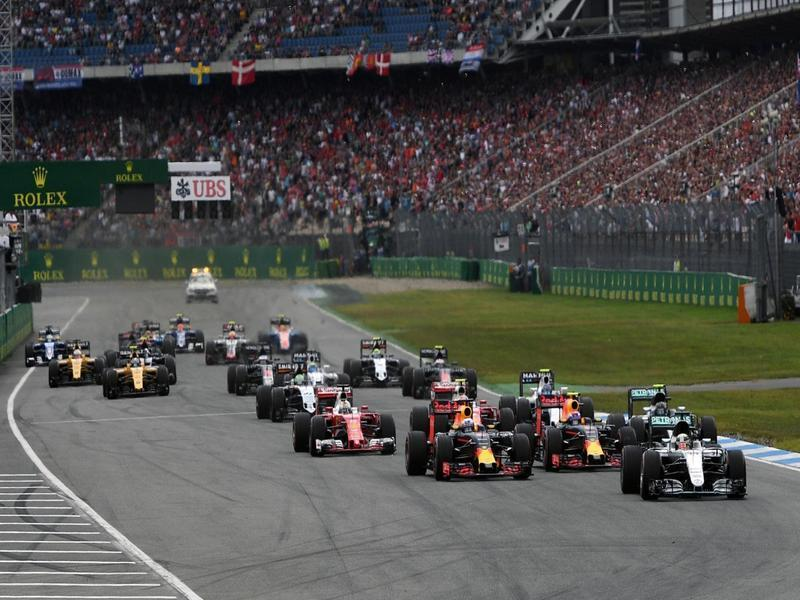f1: (617, 423, 772, 517), (404, 410, 541, 491), (295, 375, 401, 477), (98, 351, 203, 418), (44, 334, 121, 395), (339, 324, 413, 385), (225, 349, 316, 394)
